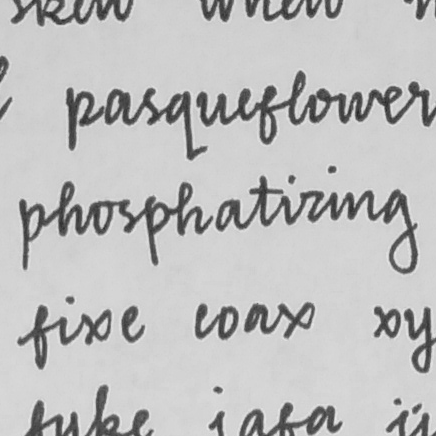a: (214, 195, 244, 233)
g: (380, 187, 423, 275)
h: (175, 179, 207, 240), (54, 177, 84, 239)
i: (277, 172, 298, 228), (327, 163, 341, 224)
n: (343, 186, 376, 222)
o: (88, 198, 116, 236)
p: (14, 195, 48, 272), (140, 193, 172, 268)
s: (116, 196, 137, 236)
t: (247, 174, 283, 229)
z: (299, 187, 326, 225)
